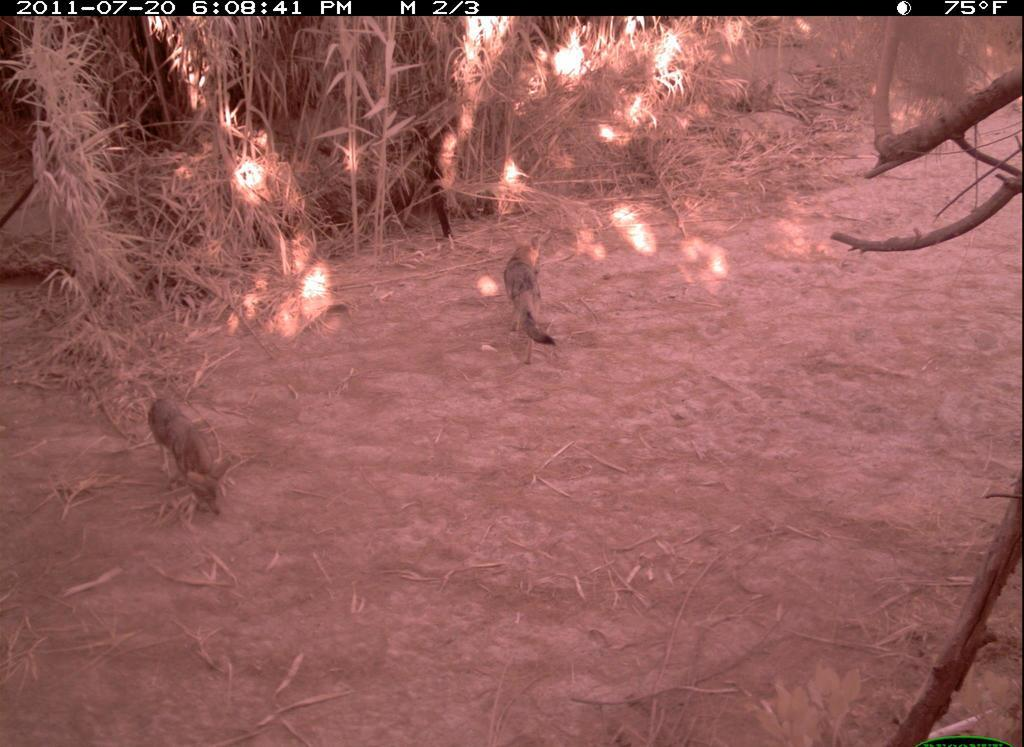coyote: (127, 388, 237, 519), (493, 235, 570, 370)
